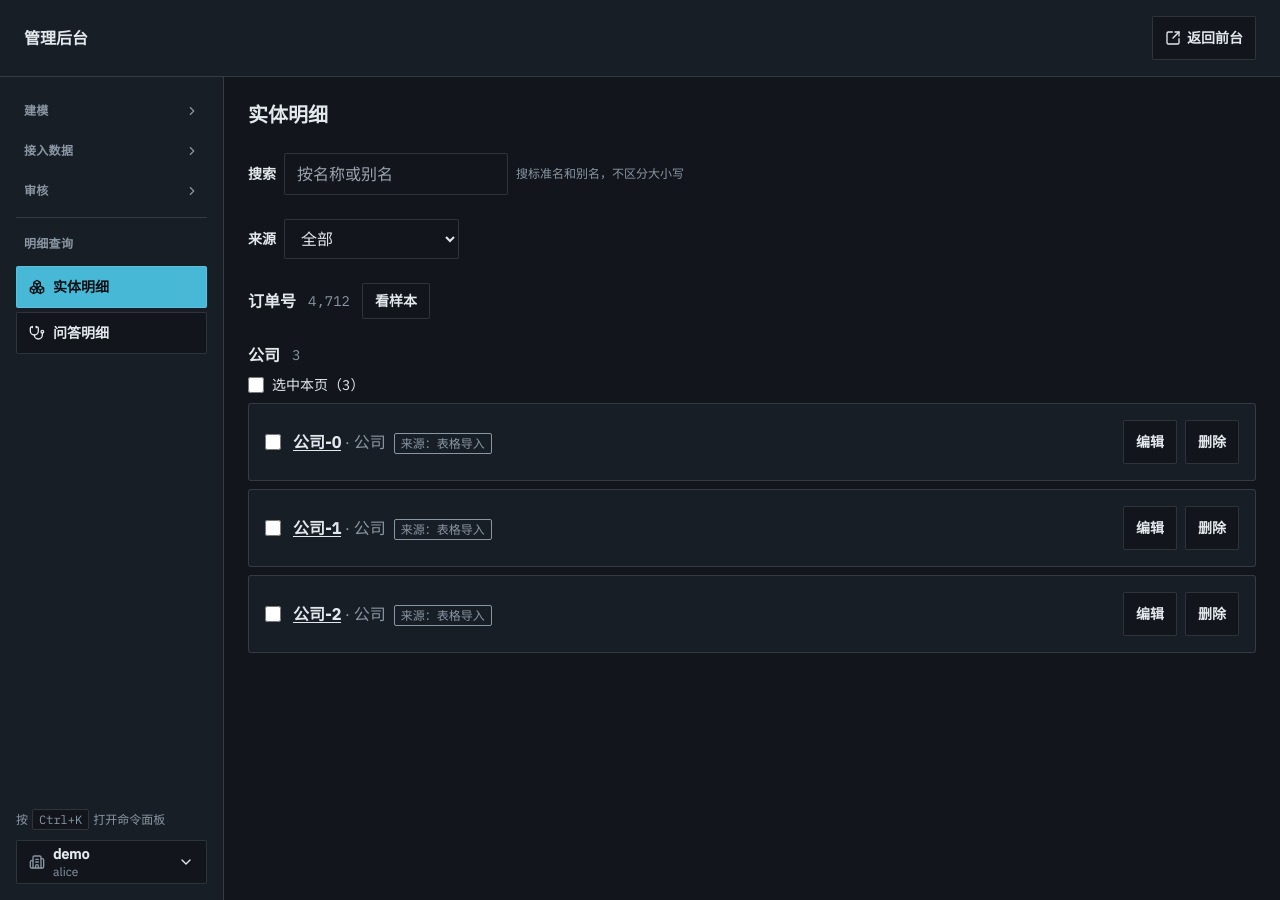
Test: 结果 › 全部成功时不报失败明细
This screenshot has width=1280, height=900.
Expected: the element "订单号 4,712 看样本" is shown, [248,283,430,319]
Type "命中" into the search field labelled "搜索" at (396, 174), box [284,153,508,195]
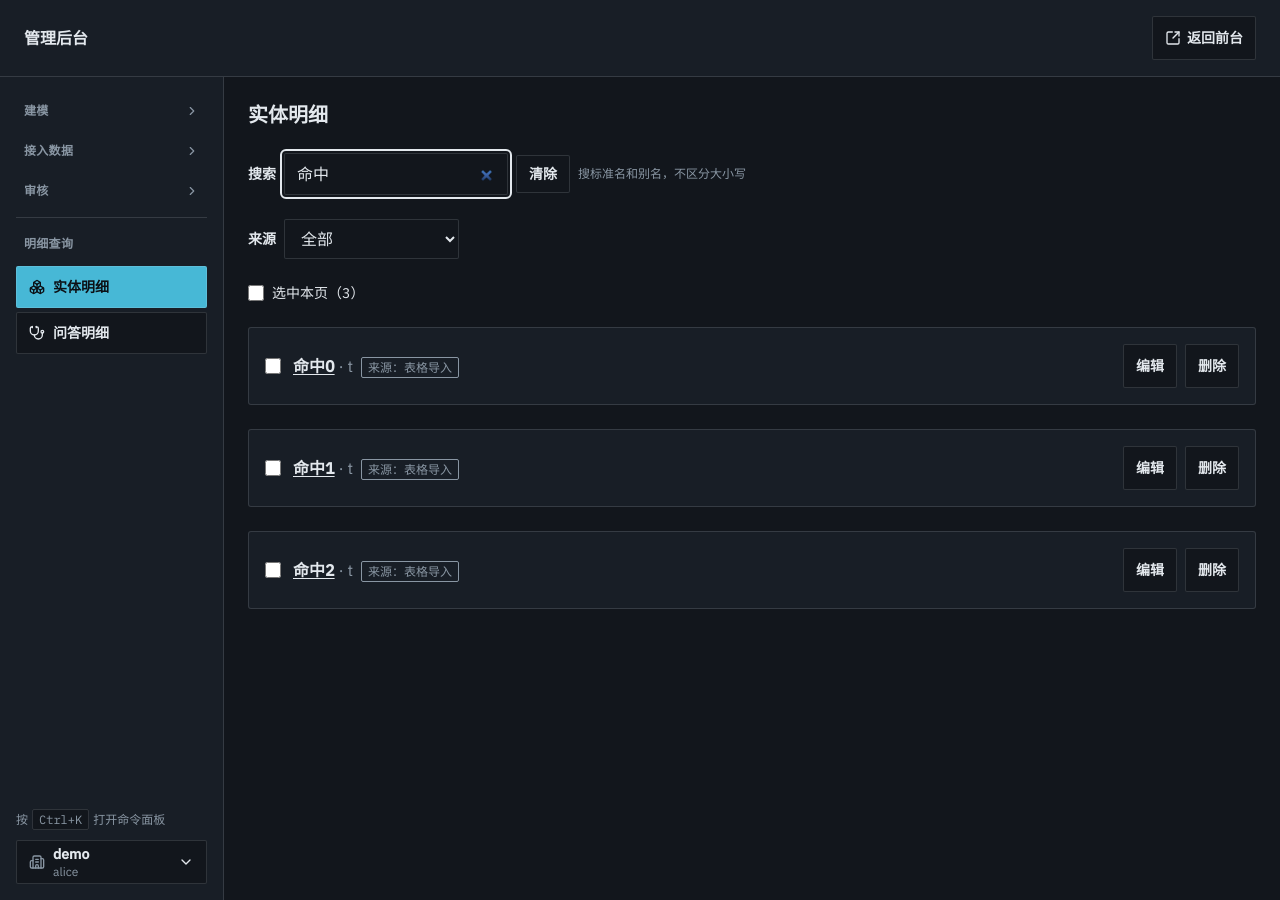
Expected: the link "命中0" is shown, [293,356,335,376]
Click the checkbox labelled "选中本页（3）" at (256, 293), box [248,285,264,301]
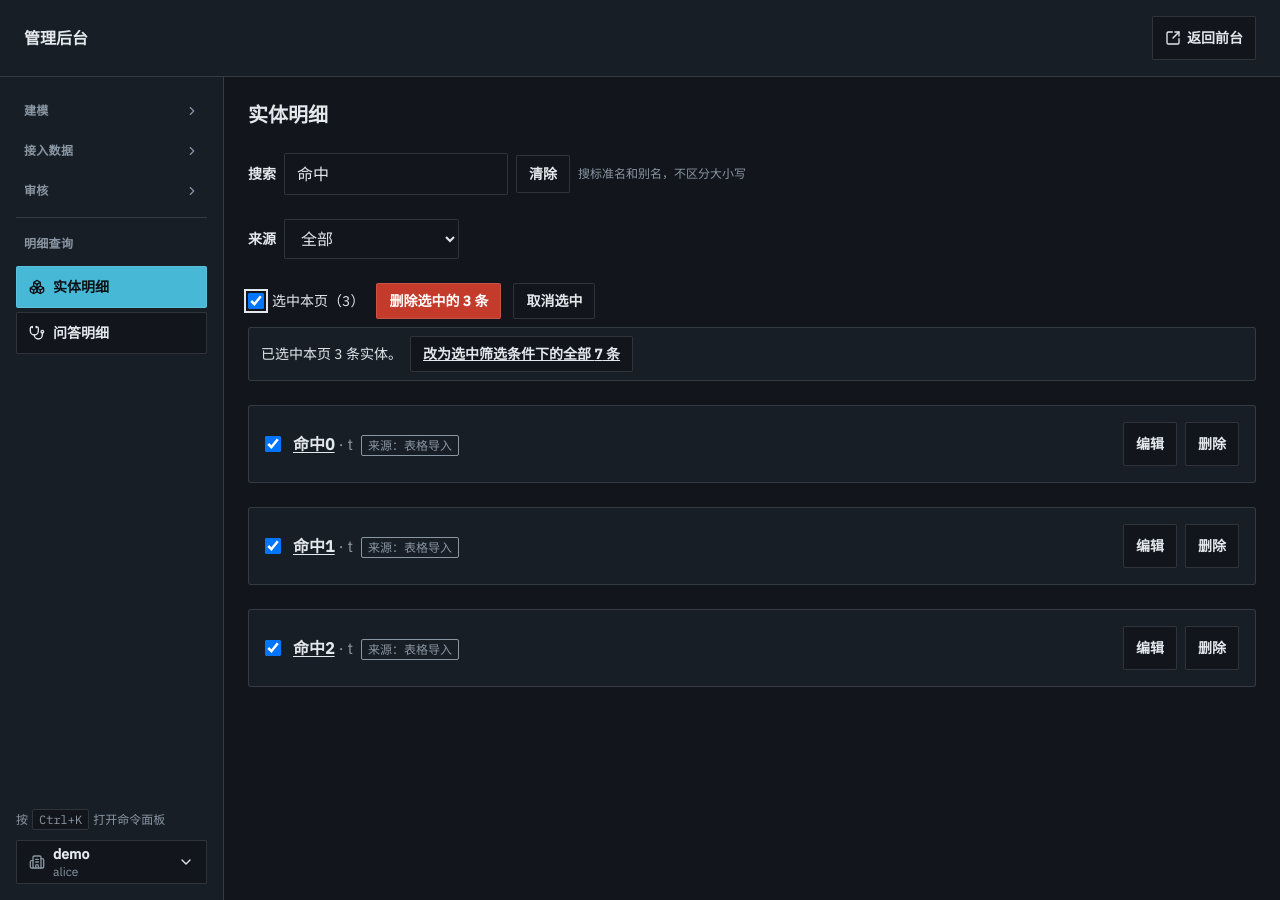
Click the button "删除选中的 3 条" at (439, 301), box [376,283,501,319]
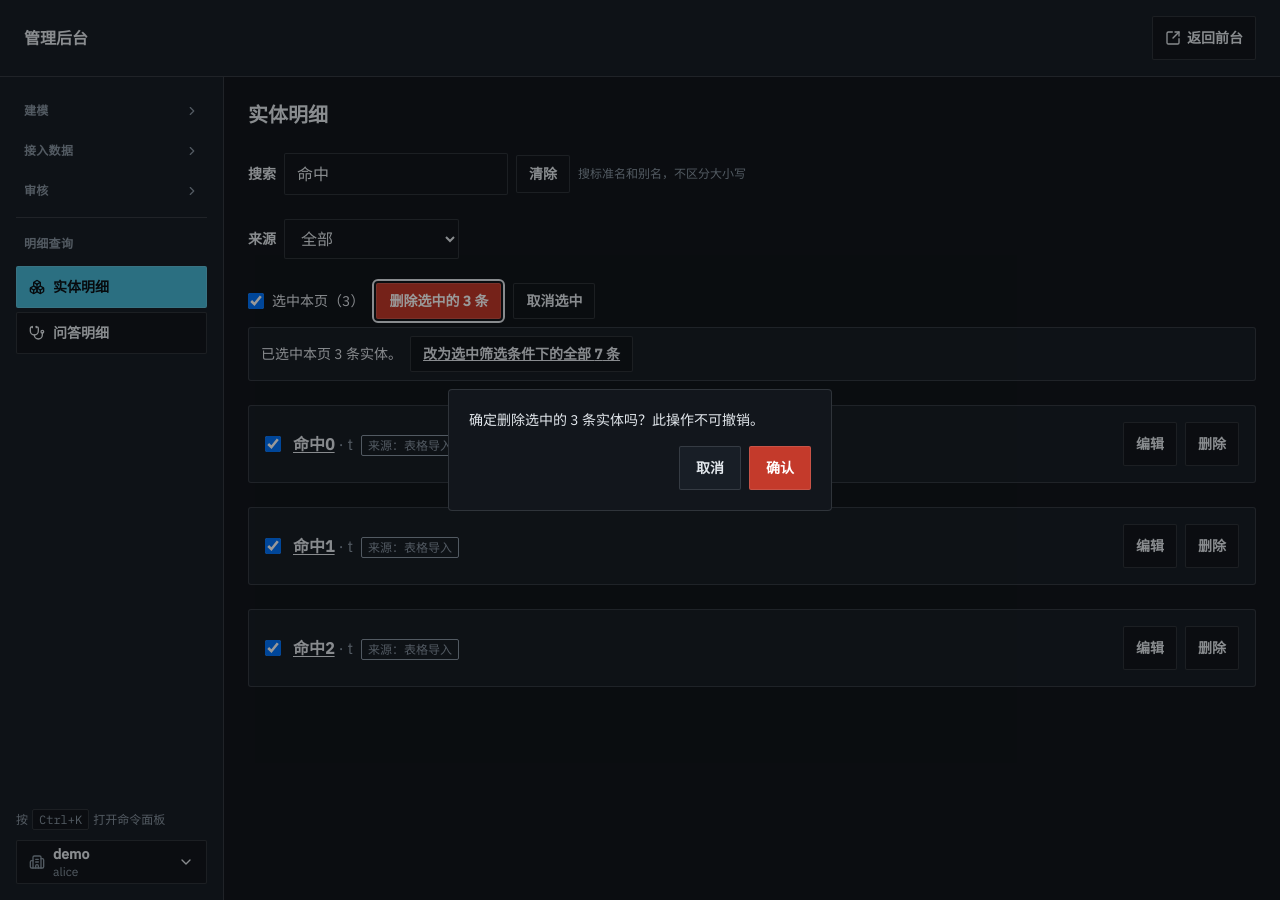
Click the button "确认" at (780, 468), box [749,446,811,490]
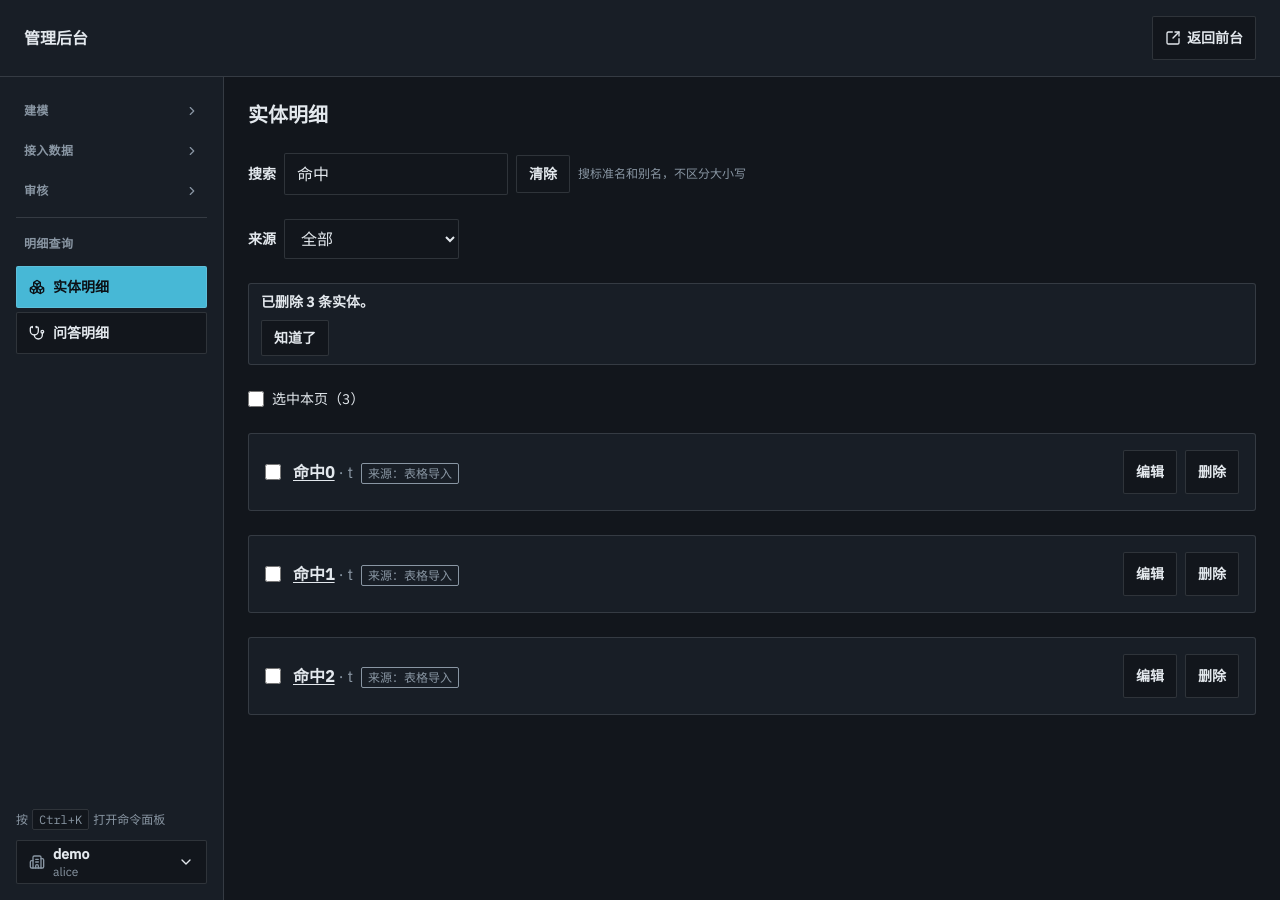
Expected: the message with test id "bulk-delete-outcome" shows "已删除 3 条", [261,293,374,311]
